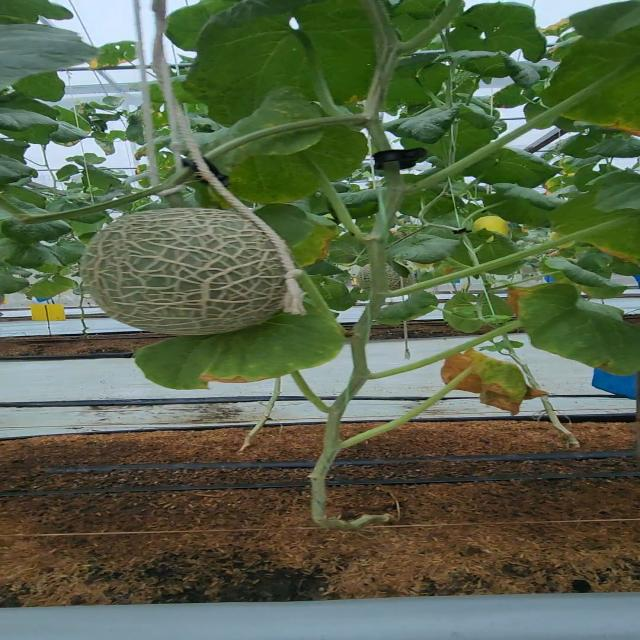Front-melon: (90, 210, 286, 334)
